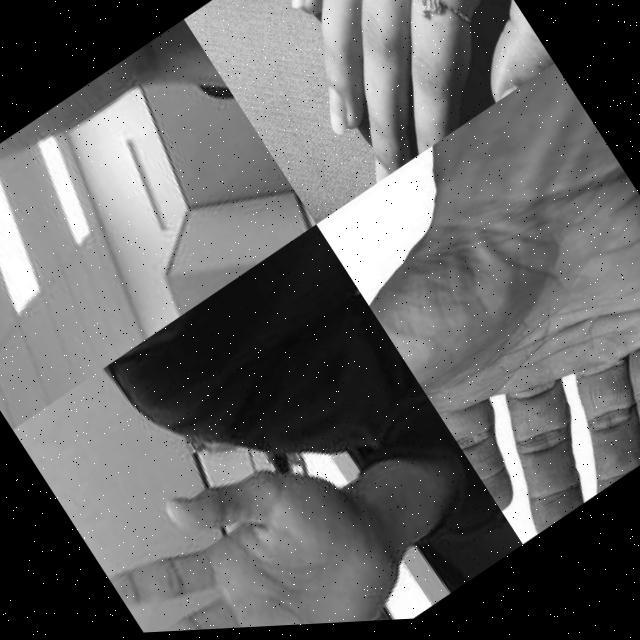no-gloves: (341, 106, 640, 557), (87, 400, 431, 636), (236, 0, 554, 197)
